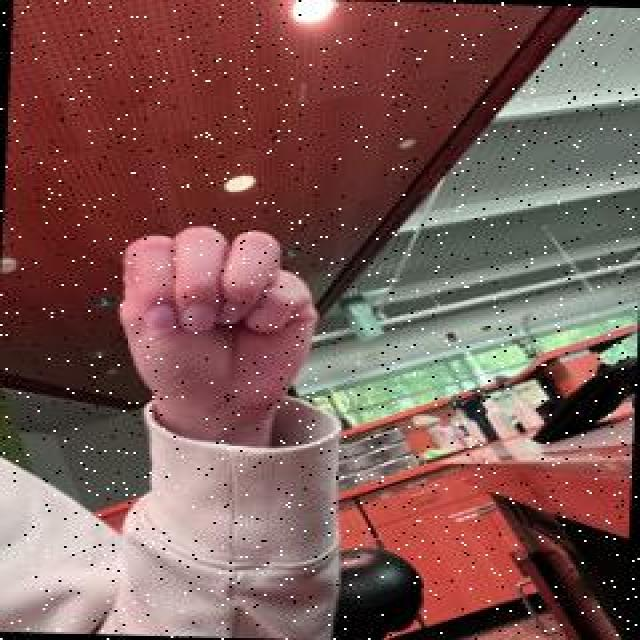M: (109, 218, 328, 420)
